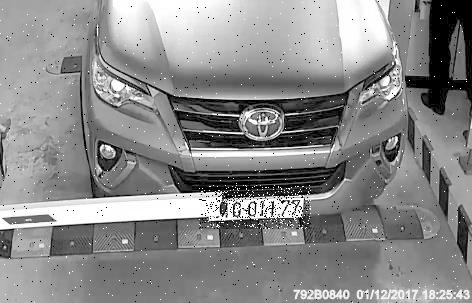License-plate: (201, 186, 313, 230)
